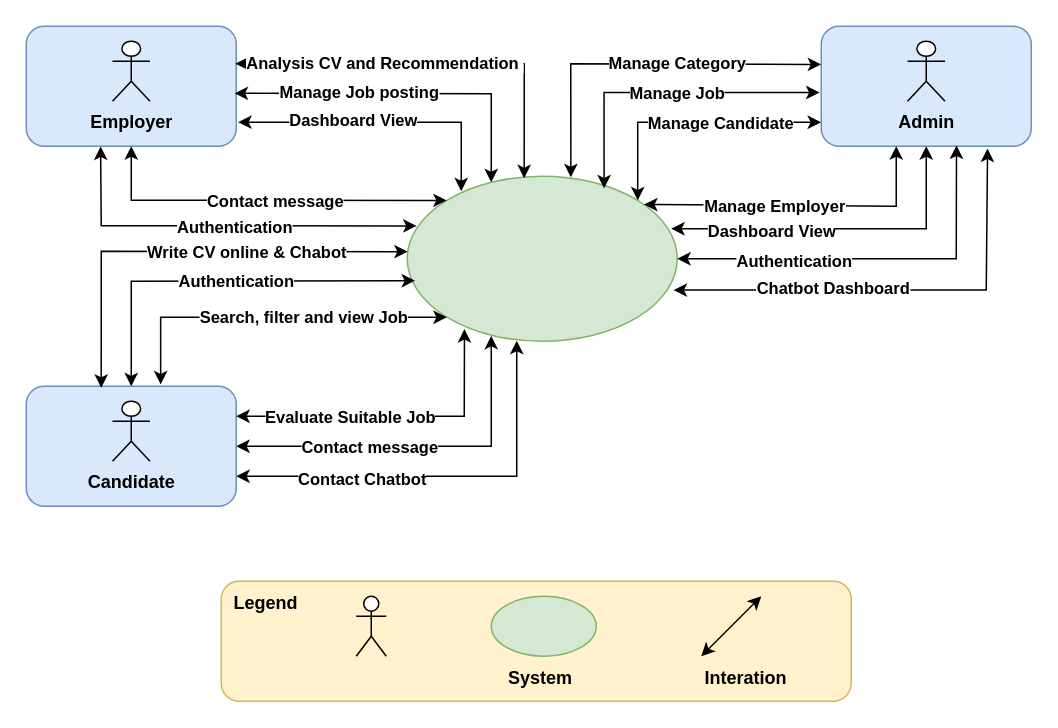
The diagram is 1058 pixels wide and 728 high, and some of its shapes have lost their labels. Here are the shapes that lost their labels. From the top down, the box of each, then its label:
(406, 175, 677, 341): Smart Recruitment System
(355, 595, 386, 656): Actor
